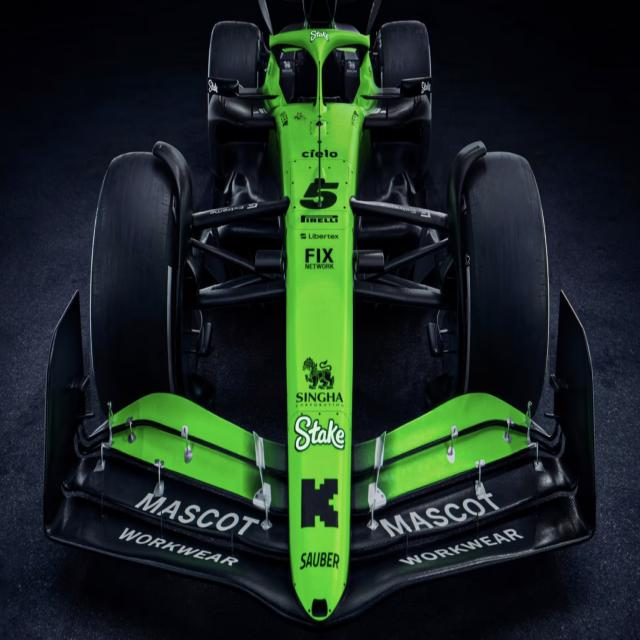Kick Sauber: (39, 8, 598, 632)
